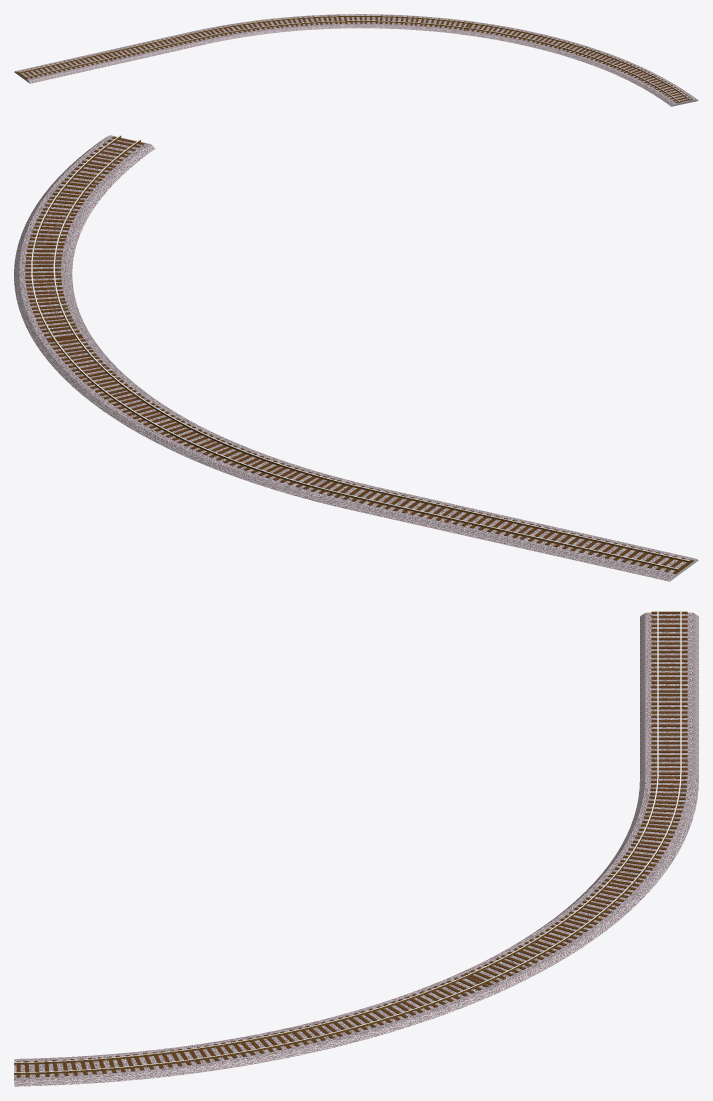
Rendered from GMLID_53596160_235206_887.dae.
3 views of the same model, one above another, from view 1: azimuth 30°, elevation 25°; view 2: azimuth 150°, elevation 25°; view 3: azimuth 270°, elevation 25° (orthographic). The views are drawn at different scales.
Size of the model in its own units: 94.34 by 61.27 by 3.06.
5 materials, 1 textured.
